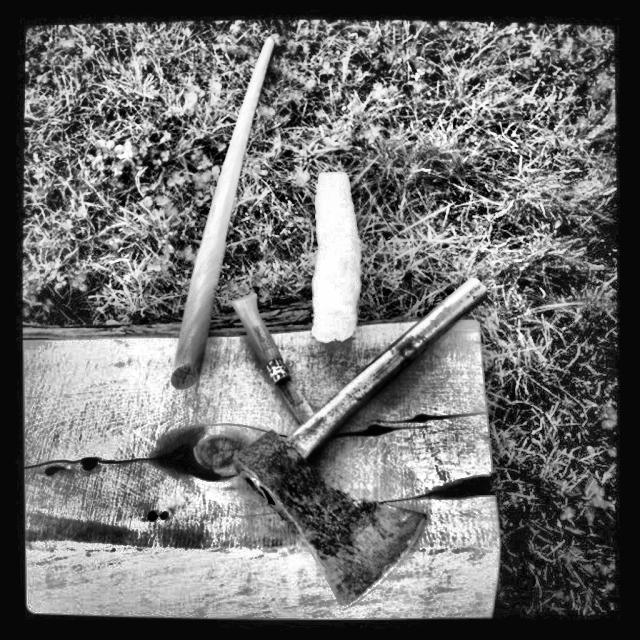kapak: (223, 261, 508, 624)
